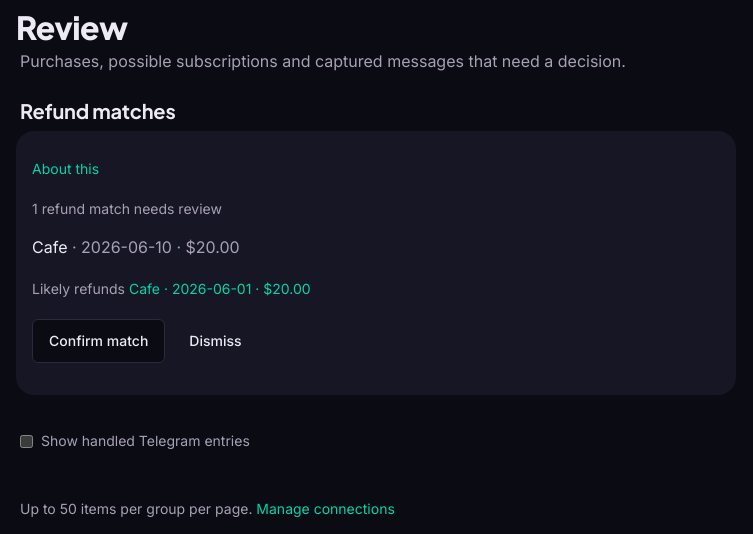
Scenario: dismisses a proposed refund match without linking it
The width and height of the screenshot is (753, 534).
Click the button "Dismiss" at {"x": 215, "y": 341}, box [173,319,258,363]
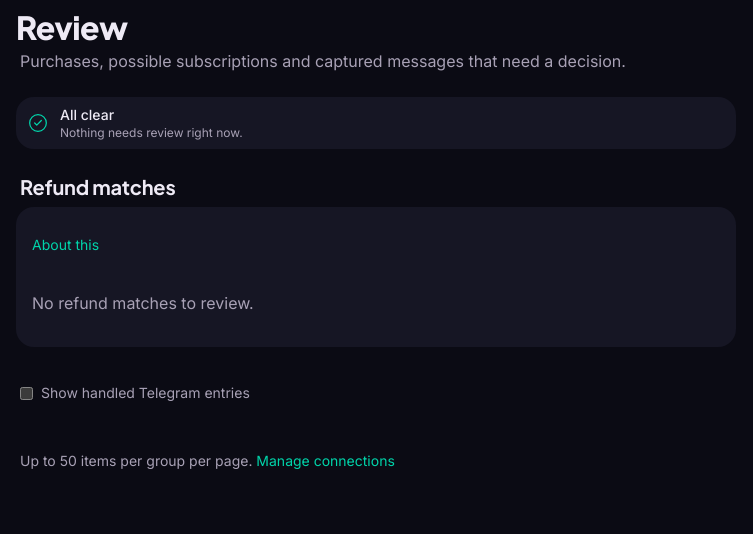
Check: the text "No refund matches to review." is shown, box [32,293,254,313]
